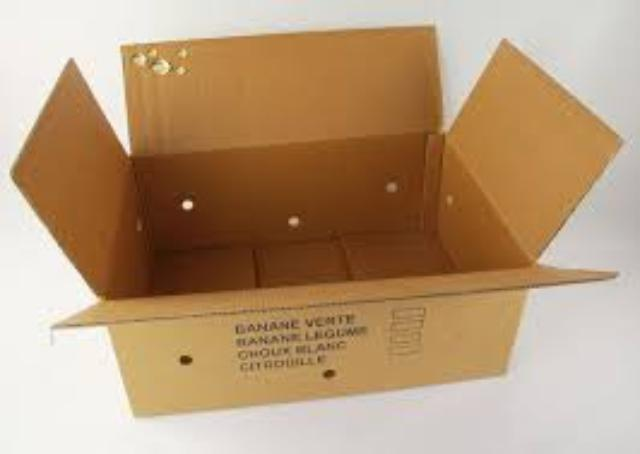cardboard paper: (10, 24, 616, 411)
